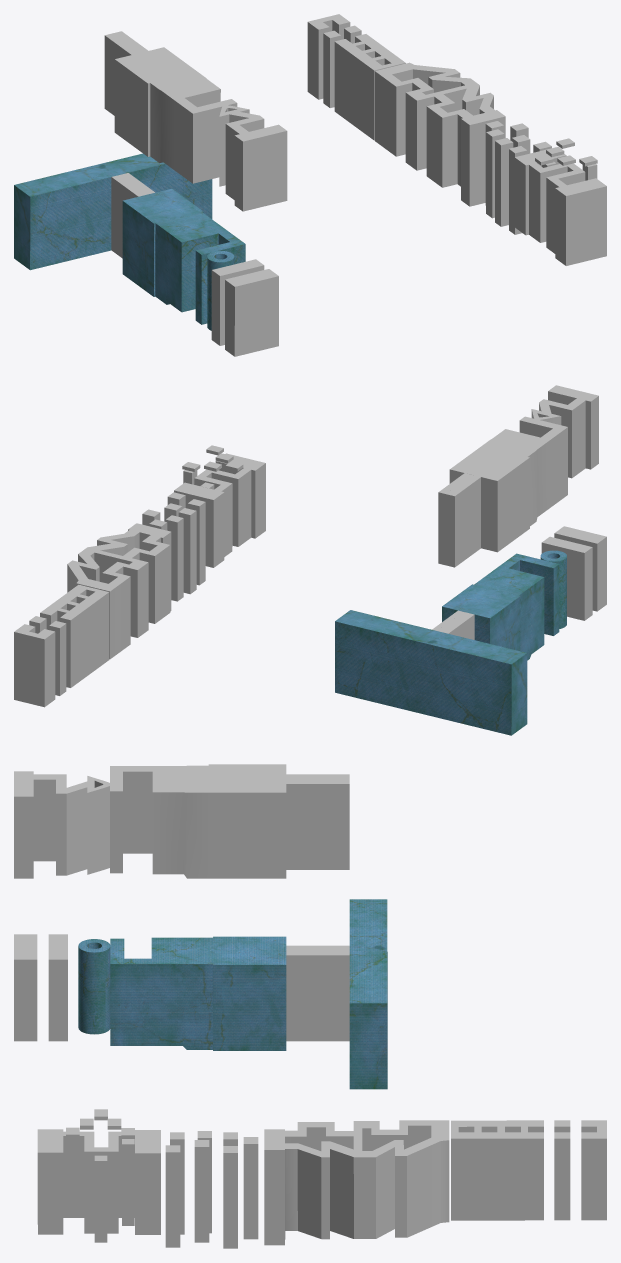
File: Stage2Fix.fbx
3 renders of one model, top to bottom at view 1: azimuth 30°, elevation 25°; view 2: azimuth 150°, elevation 25°; view 3: azimuth 270°, elevation 25°, orthographic. The views are drawn at different scales.
Visible parts, largest first — view 1: Plane_023, Plane_021, Plane_047, Plane_019, Plane_032, Plane_024, Plane_020.008, Plane_020, Plane_024.003, Plane_033, Plane_020.009, Plane_028 (+5 smaller); view 2: Plane_047, Plane_023, Plane_021, Plane_019, Plane_024, Plane_024.003, Plane_020, Plane_033, Plane_020.009, Plane_039, Plane_032, Plane_020.008 (+5 smaller); view 3: Plane_023, Plane_021, Plane_019, Plane_024, Plane_047, Plane_020, Plane_046, Plane_020.008, Plane_020.009, Plane_024.003, Plane_032, Plane_033 (+20 smaller).
Part boxes in pixels (bbox=[...]): Plane_023: bbox=[114, 47, 287, 211]; Plane_021: bbox=[375, 62, 505, 206]; Plane_047: bbox=[14, 153, 212, 270]; Plane_019: bbox=[122, 188, 245, 324]; Plane_032: bbox=[225, 269, 278, 356]; Plane_024: bbox=[334, 34, 405, 140]; Plane_020.008: bbox=[555, 178, 606, 265]; Plane_020: bbox=[529, 163, 585, 253]; Plane_024.003: bbox=[307, 14, 350, 99]; Plane_033: bbox=[211, 259, 264, 345]; Plane_020.009: bbox=[514, 149, 566, 235]; Plane_028: bbox=[495, 138, 513, 226]; Plane_047: bbox=[335, 610, 527, 735]; Plane_023: bbox=[449, 385, 598, 552]; Plane_021: bbox=[67, 523, 171, 659]; Plane_019: bbox=[442, 553, 559, 660]; Plane_024: bbox=[40, 584, 109, 687]; Plane_024.003: bbox=[14, 624, 55, 707]; Plane_020: bbox=[194, 468, 251, 556]; Plane_033: bbox=[541, 536, 592, 620]; Plane_020.009: bbox=[174, 482, 224, 567]; Plane_039: bbox=[438, 489, 459, 567]; Plane_032: bbox=[554, 526, 606, 611]; Plane_020.008: bbox=[215, 453, 265, 538]; Plane_023: bbox=[14, 764, 286, 878]; Plane_021: bbox=[264, 1120, 449, 1245]; Plane_019: bbox=[110, 936, 286, 1050]; Plane_024: bbox=[451, 1120, 543, 1220]; Plane_047: bbox=[349, 899, 387, 1089]; Plane_020: bbox=[63, 1131, 134, 1233]; Plane_046: bbox=[78, 939, 110, 1034]; Plane_020.008: bbox=[37, 1129, 63, 1234]; Plane_020.009: bbox=[135, 1130, 160, 1234]; Plane_024.003: bbox=[581, 1120, 606, 1220]; Plane_032: bbox=[14, 934, 37, 1041]; Plane_033: bbox=[48, 934, 67, 1041].
Size of the model in its own units: 210 by 98.71 by 202.
